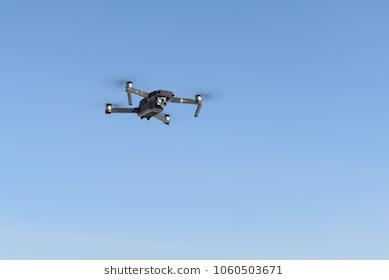drone: (96, 65, 228, 137)
